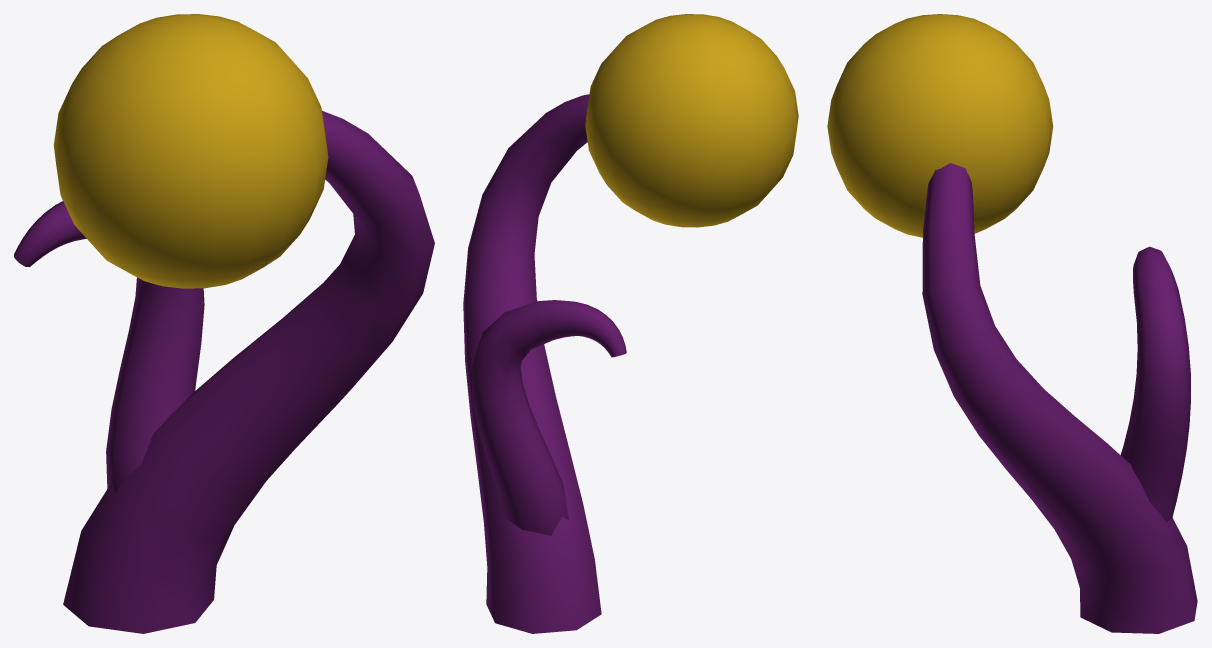
Rendered from Tree_Light_2.glb.
3 renders of one model, left to right at view 1: azimuth 30°, elevation 25°; view 2: azimuth 150°, elevation 25°; view 3: azimuth 270°, elevation 25°, orthographic. The views are drawn at different scales.
Visible parts, largest first — view 1: Tree_Light_2; view 2: Tree_Light_2; view 3: Tree_Light_2.
Boxes of the visible parts, bbox=[...] form: Tree_Light_2: bbox=[14, 14, 434, 633]; Tree_Light_2: bbox=[463, 14, 798, 633]; Tree_Light_2: bbox=[827, 14, 1197, 633].
Bounding box in the file's own units: 1.44 × 2.51 × 1.51.
1 material, 1 textured.
